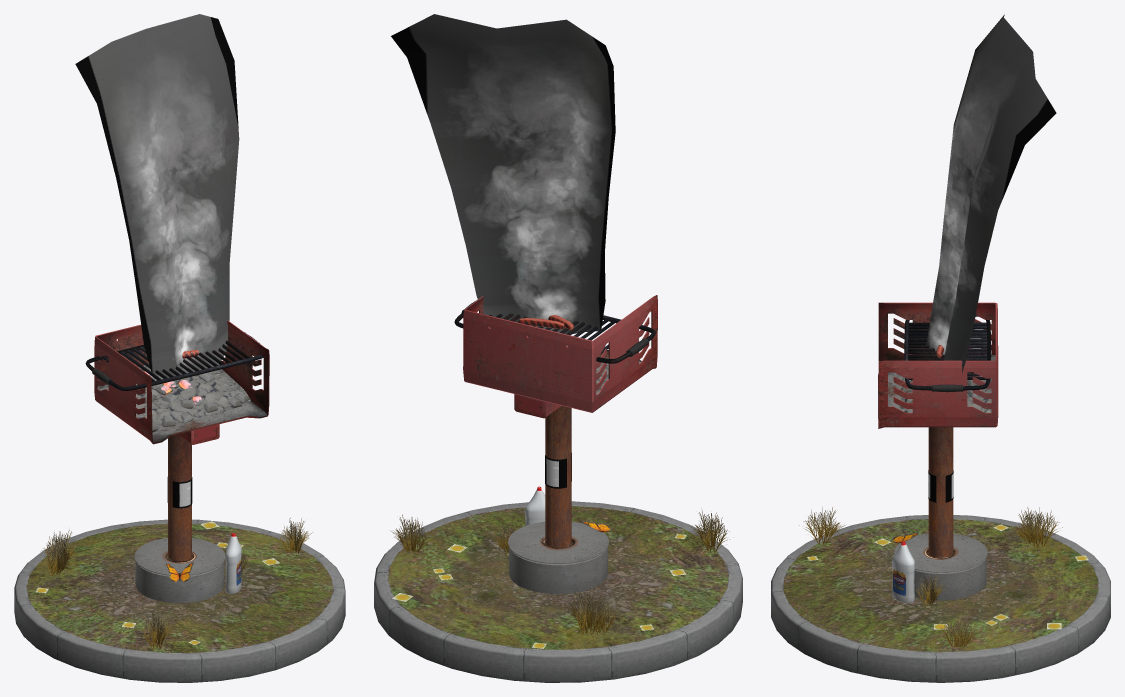
The model's file is Park BBQ Grill.fbx.
The picture shows the model from 3 angles, left to right: view 1: azimuth 30°, elevation 25°; view 2: azimuth 150°, elevation 25°; view 3: azimuth 270°, elevation 25°; orthographic projection. The views are drawn at different scales.
Parts seen in each view (by area): view 1: pPlane2, pCylinder17, pCylinder16, polySurface5, pPlane1, pCube1, pCylinder31, polySurface6, pCube7, pCube45, pCube40, pCube41 (+4 smaller); view 2: pPlane2, pCylinder17, pCylinder16, polySurface6, polySurface5, pCube1, pCube42, pCube40, pCube41, pCube2, pCylinder36, pCube17 (+3 smaller); view 3: pCylinder17, pPlane2, polySurface5, pCylinder16, pCube1, pCylinder31, pCube45, pCube42, pCube40, pCube41, pCube7, pCube44 (+1 smaller).
Boxes of the visible parts, left/top/right/bottom form: pPlane2: left=75, top=14, right=239, bottom=377; pCylinder17: left=14, top=519, right=345, bottom=682; pCylinder16: left=134, top=434, right=225, bottom=602; polySurface5: left=94, top=320, right=269, bottom=433; pPlane1: left=97, top=363, right=250, bottom=425; pCube1: left=94, top=376, right=269, bottom=444; pCylinder31: left=102, top=340, right=249, bottom=381; polySurface6: left=94, top=324, right=148, bottom=390; pCube7: left=85, top=344, right=263, bottom=390; pCube45: left=225, top=533, right=241, bottom=593; pCube40: left=138, top=609, right=175, bottom=649; pCube41: left=276, top=518, right=312, bottom=553; pPlane2: left=391, top=14, right=615, bottom=334; pCylinder17: left=374, top=501, right=742, bottom=682; pCylinder16: left=508, top=405, right=608, bottom=594; polySurface6: left=463, top=309, right=593, bottom=402; polySurface5: left=465, top=295, right=657, bottom=401; pCube1: left=463, top=345, right=657, bottom=412; pCube42: left=563, top=586, right=608, bottom=635; pCube40: left=690, top=510, right=729, bottom=552; pCube41: left=391, top=514, right=429, bottom=552; pCube2: left=514, top=394, right=561, bottom=418; pCylinder36: left=545, top=455, right=566, bottom=488; pCube17: left=392, top=534, right=686, bottom=648; pCylinder17: left=771, top=515, right=1110, bottom=682; pPlane2: left=925, top=14, right=1056, bottom=372; polySurface5: left=878, top=302, right=996, bottom=418; pCylinder16: left=894, top=427, right=987, bottom=600; pCube1: left=878, top=358, right=998, bottom=428; pCylinder31: left=907, top=322, right=987, bottom=379; pCube45: left=892, top=541, right=915, bottom=603; pCube42: left=1013, top=507, right=1062, bottom=547; pCube40: left=799, top=507, right=845, bottom=544; pCube41: left=939, top=614, right=981, bottom=646; pCube7: left=904, top=315, right=991, bottom=390; pCube44: left=916, top=572, right=945, bottom=606.
Bounding box in the file's own units: 10.3 × 18.83 × 10.1.
16 materials, 15 textured.
